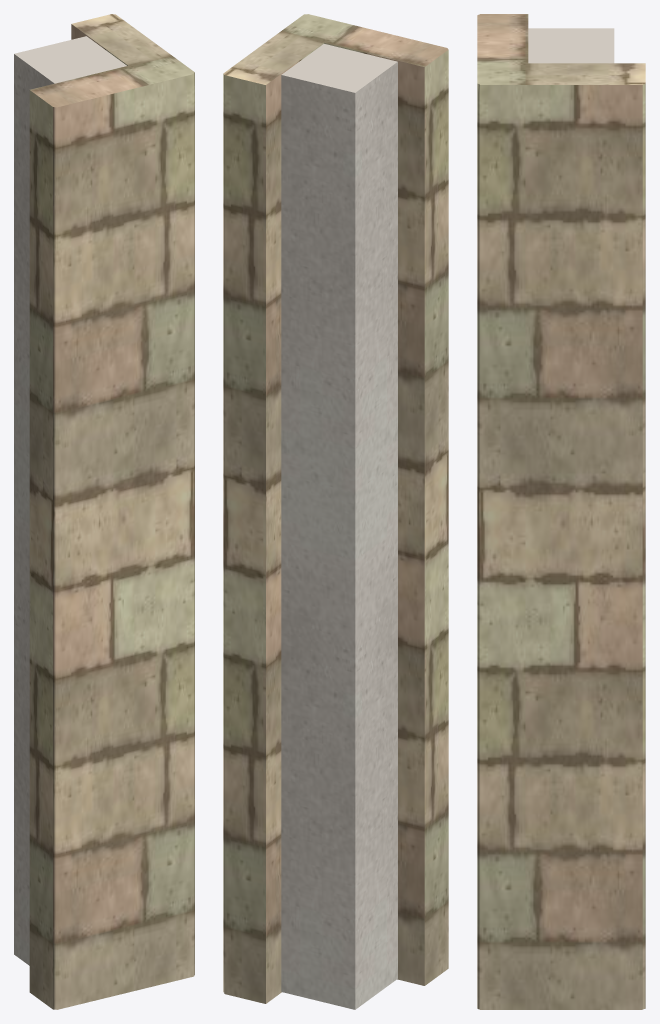
File: f_corner_u1.glb
3 views of the same model, side by side, from view 1: azimuth 30°, elevation 25°; view 2: azimuth 150°, elevation 25°; view 3: azimuth 270°, elevation 25° (orthographic). The views are drawn at different scales.
Visible parts, largest first — view 1: f_corner_u1_terra, f_corner_u1_plaster; view 2: f_corner_u1_plaster, f_corner_u1_terra; view 3: f_corner_u1_terra, f_corner_u1_plaster.
Boxes of the visible parts, x1,y1,x2,y2 form: f_corner_u1_terra: [29, 14, 194, 1009]; f_corner_u1_plaster: [14, 36, 126, 965]; f_corner_u1_plaster: [281, 44, 397, 1009]; f_corner_u1_terra: [223, 14, 448, 1003]; f_corner_u1_terra: [477, 14, 645, 1009]; f_corner_u1_plaster: [528, 28, 614, 63].
Bounding box in the file's own units: 0.56 × 3.4 × 0.56.
2 materials, 2 textured.
